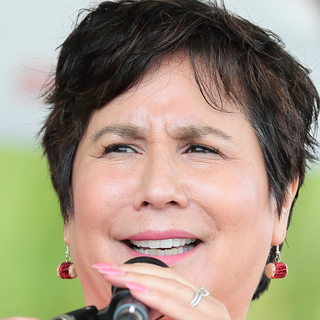eye: (178, 138, 227, 163), (98, 139, 146, 163)
